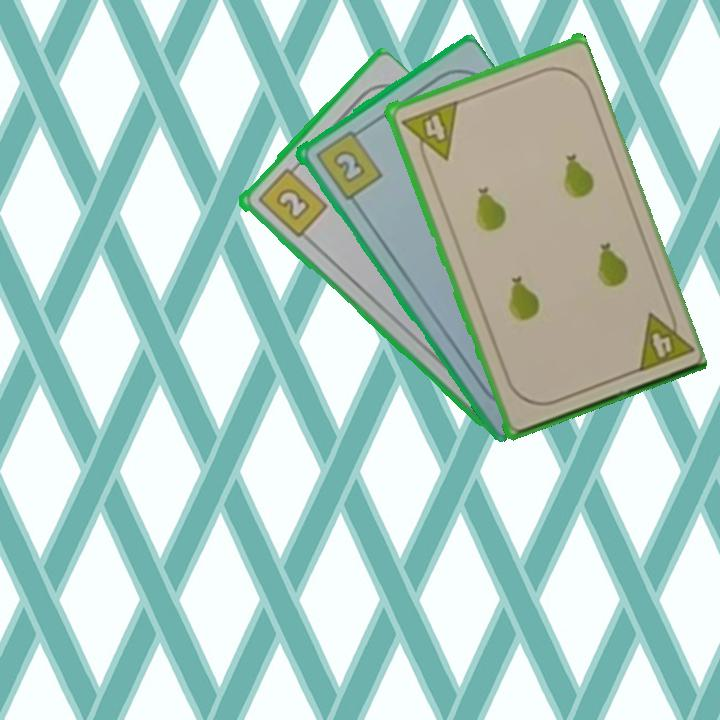2b: (253, 160, 330, 241), (311, 124, 385, 203)
4p: (630, 302, 694, 375), (397, 97, 460, 168)
